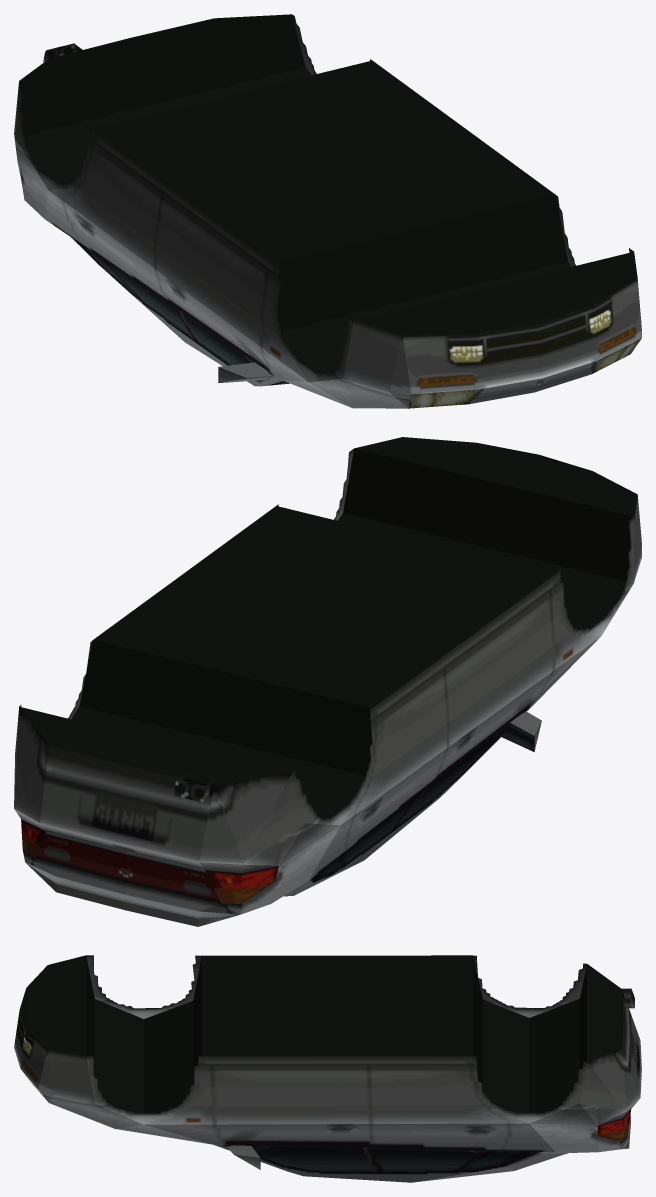
The picture shows the model from 3 angles, top to bottom: view 1: azimuth 30°, elevation 25°; view 2: azimuth 150°, elevation 25°; view 3: azimuth 270°, elevation 25°; orthographic projection. The views are drawn at different scales.
Parts seen in each view (by area): view 1: CAR_00; view 2: CAR_00; view 3: CAR_00.
Part boxes in pixels (x1,y1,x2,y2): CAR_00: (14, 14, 641, 408); CAR_00: (14, 437, 641, 926); CAR_00: (14, 955, 641, 1182).
Size of the model in its own units: 62.3 by 38.53 by 145.
Materials: 1 (1 with a texture image).
